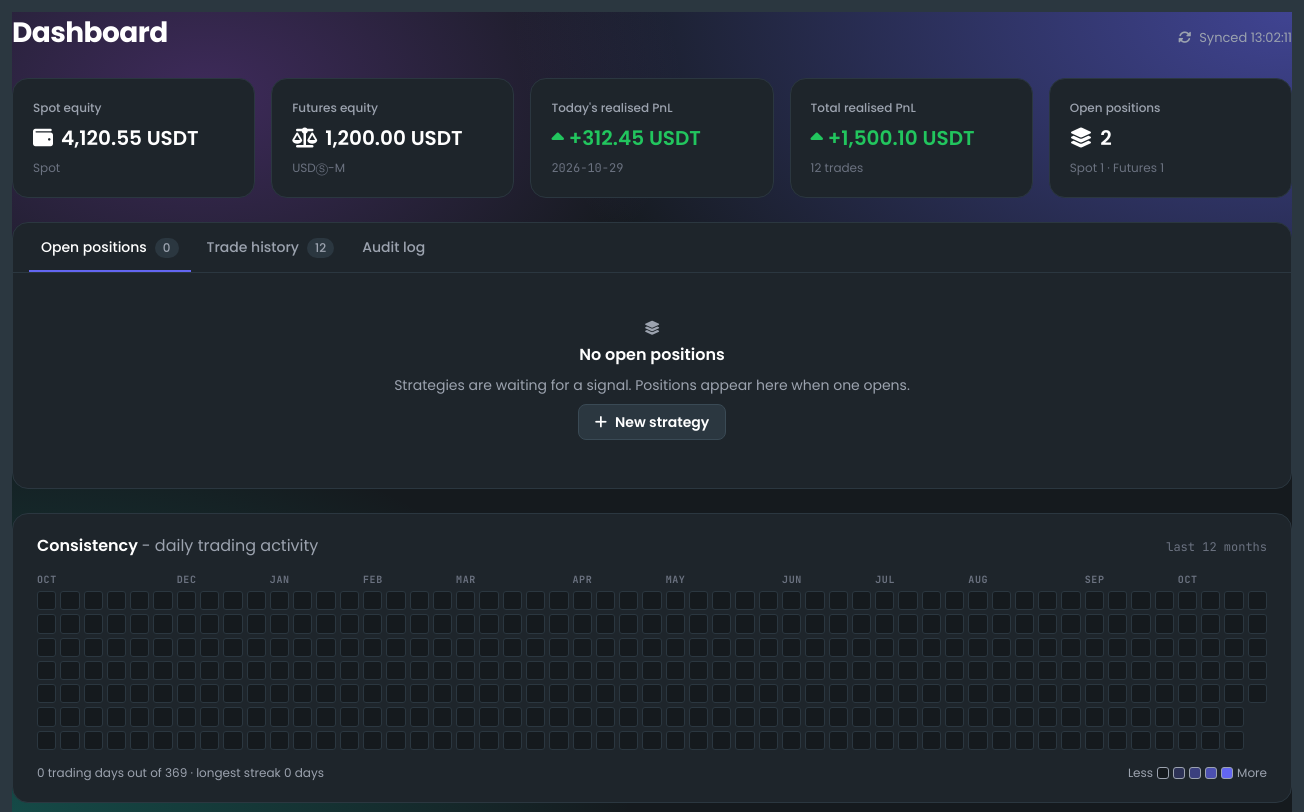
Dashboard page › appends older trades via Load more and hides the button when the cursor is exhausted
Step 1. Click the tab "Trade history 12" → (270, 248), box [194,223,346,272]
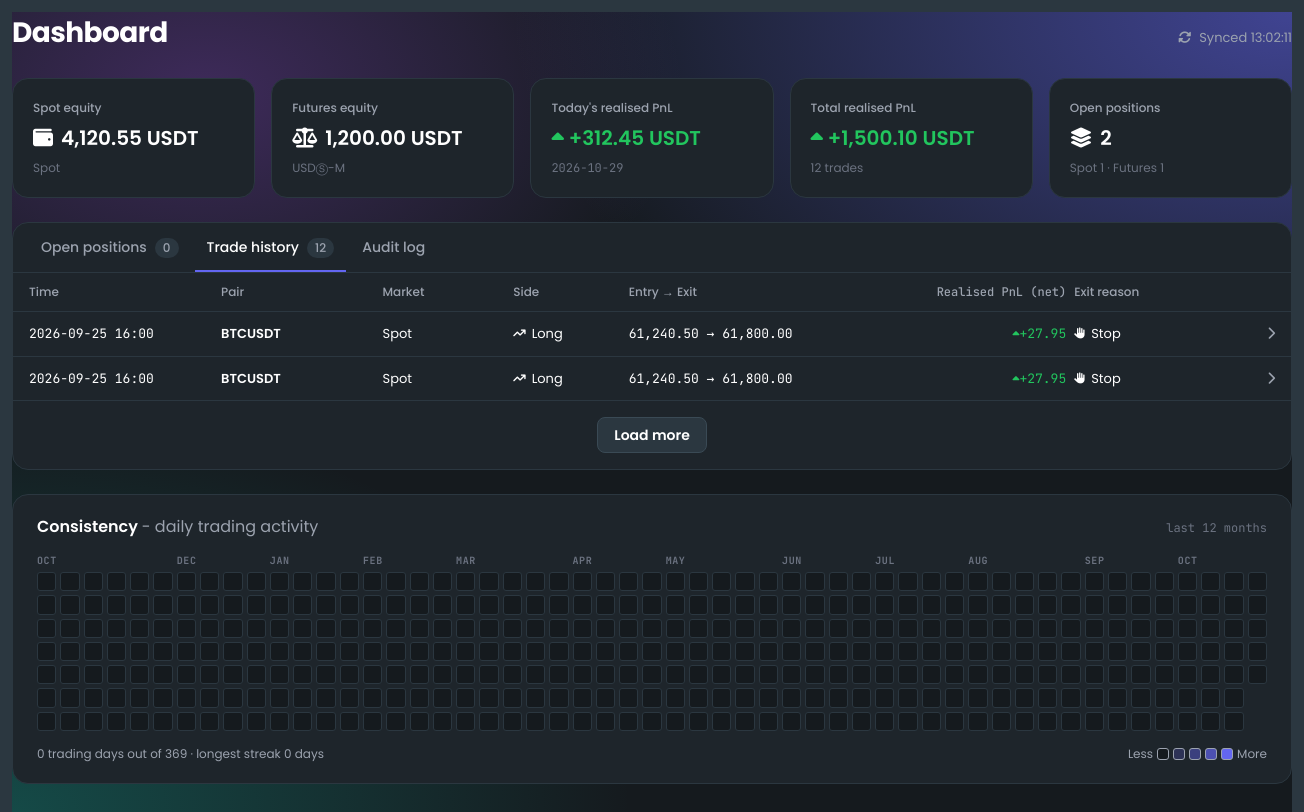
Step 2. Click the button "Load more" → (652, 435), box [597,417,707,453]
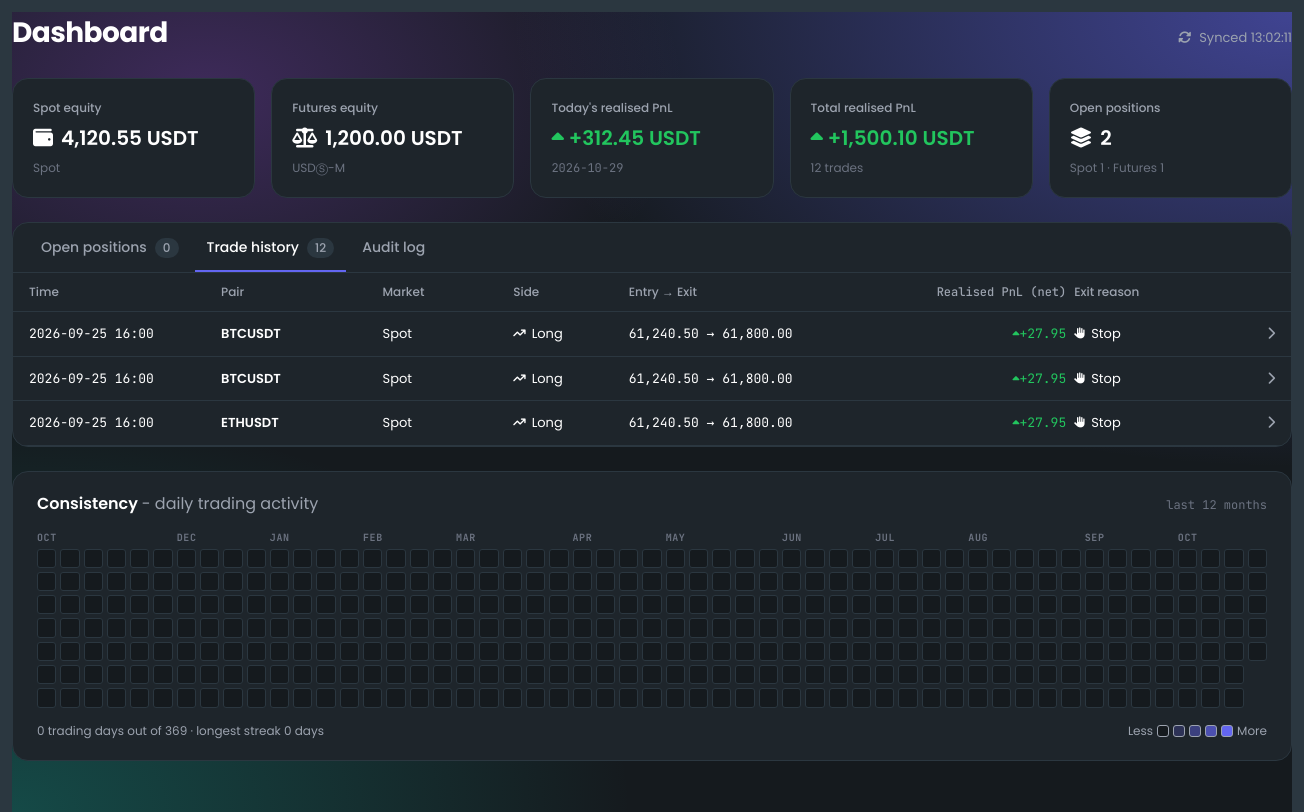
Expected: the text "ETHUSDT" is shown, [221,413,279,432]
Expected: the button "Load more" is gone
